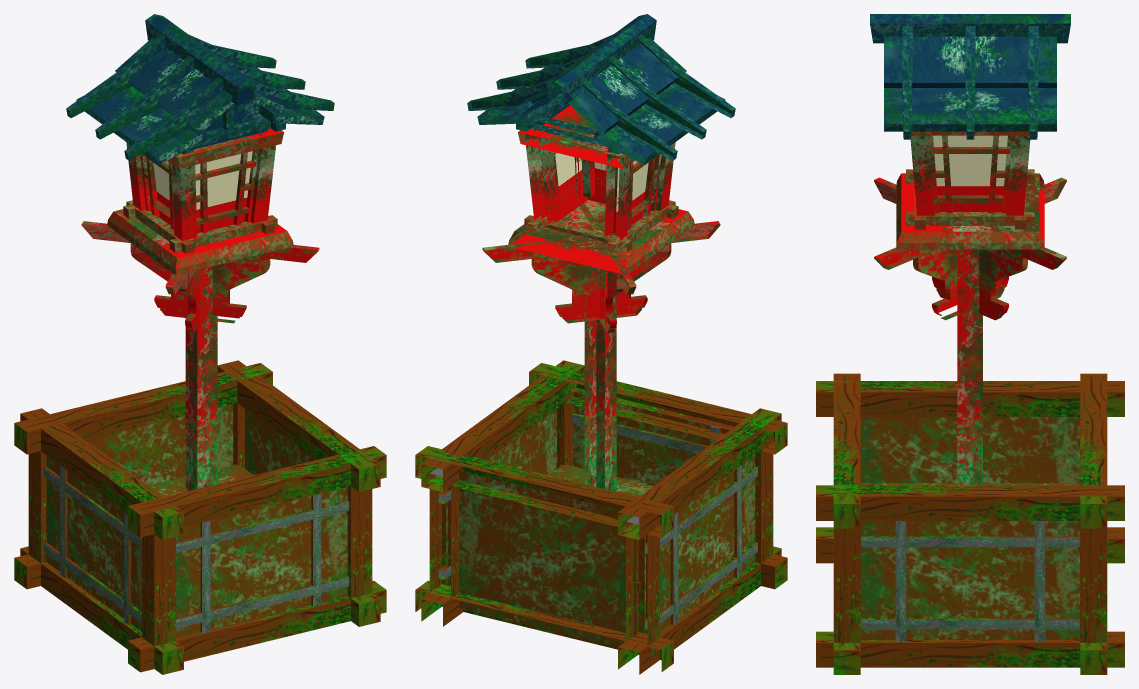
The model's file is light 1.fbx.
The picture shows the model from 3 angles, left to right: view 1: azimuth 30°, elevation 25°; view 2: azimuth 150°, elevation 25°; view 3: azimuth 270°, elevation 25°; orthographic projection. The views are drawn at different scales.
Visible parts, largest first — view 1: light; view 2: light; view 3: light.
Part boxes in pixels (x1,y1,x2,y2): light: (14,14,386,674); light: (415,14,787,674); light: (816,14,1124,674).
Size of the model in its own units: 391 by 833 by 391.
